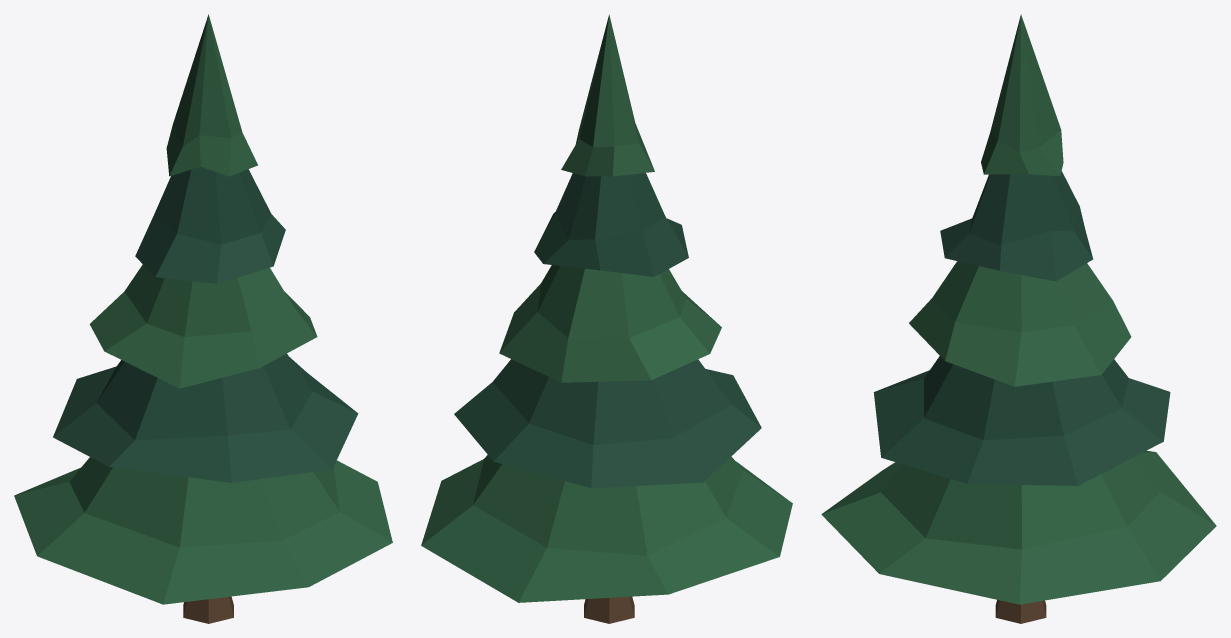
File: town_tree_b.glb
3 renders of one model, left to right at view 1: azimuth 30°, elevation 25°; view 2: azimuth 150°, elevation 25°; view 3: azimuth 270°, elevation 25°, orthographic.
Parts seen in each view (by area): view 1: town_tree_b; view 2: town_tree_b; view 3: town_tree_b.
Part boxes in pixels (<box>): town_tree_b: <box>14,14,392,623</box>; town_tree_b: <box>421,14,792,623</box>; town_tree_b: <box>821,14,1216,623</box>.
Bounding box in the file's own units: 3.48 × 5.85 × 3.51.
